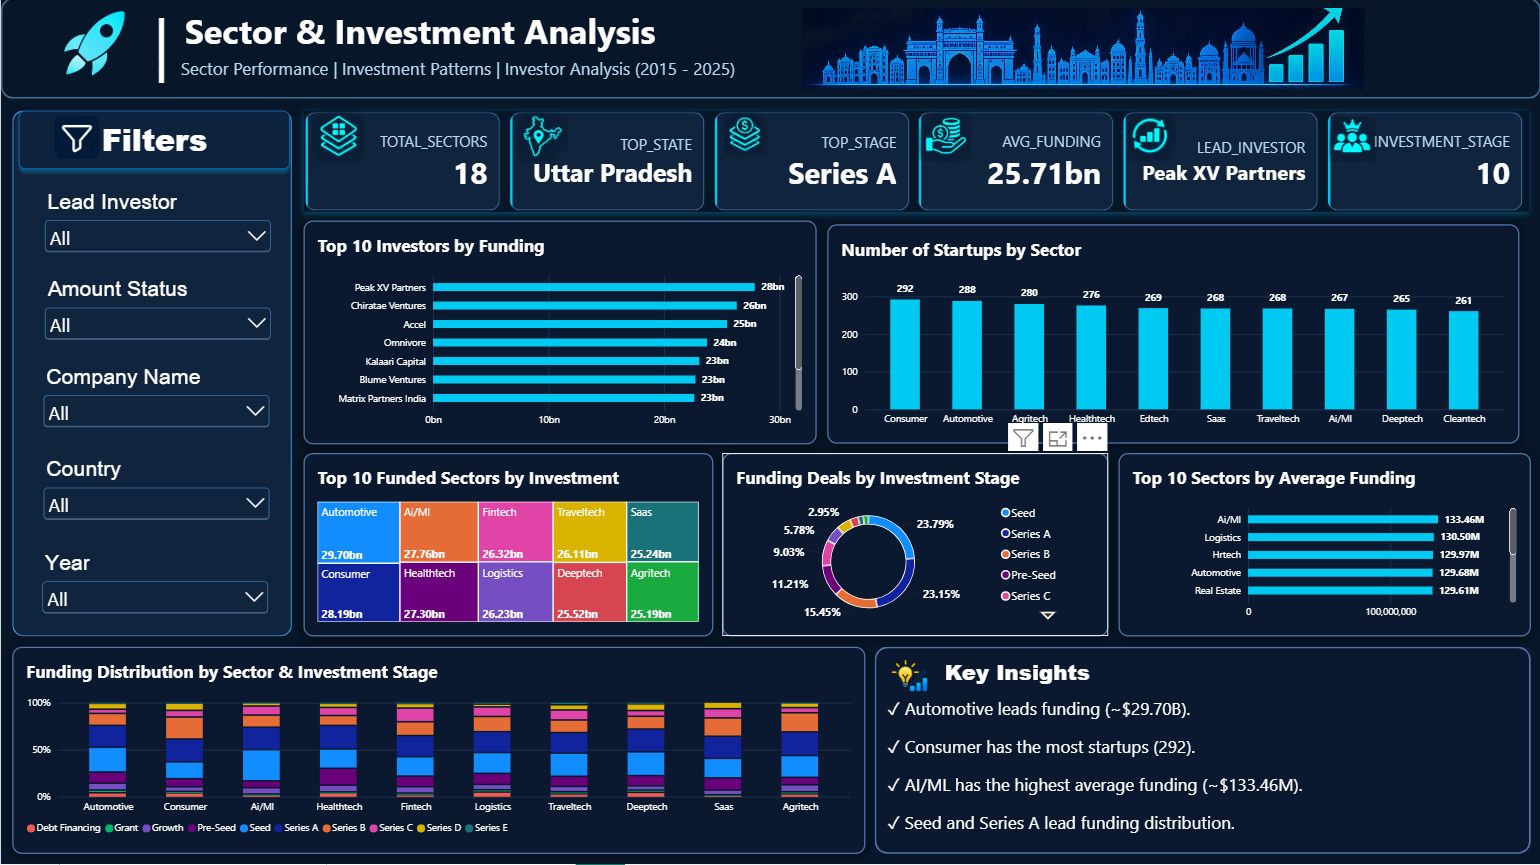

Layout of this report page (visuals, bound fields, positions):
{"tool":"powerbi","page":{"name":"Sector & Investment Analysis","canvas":[1920,1080],"ordinal":1},"visuals":[{"type":"textbox","box":[0,0,1920.4,148.3],"z":0},{"type":"shape","box":[0,0,1920.4,125.6],"z":1000},{"type":"image","box":[47.1,0,139.5,109.9],"z":2000},{"type":"textbox","box":[186.6,10.5,858.3,102.9],"z":3000},{"type":"textbox","box":[186.6,0,273.8,170.9],"z":4000},{"type":"textbox","box":[225,73.3,718.6,52.3],"z":5000},{"type":"image","box":[999.4,12.2,701.2,101.2],"z":6000},{"type":"cardVisual","fields":{"Data":["indian_startup_funding.TOTAL_SECTORS","indian_startup_funding.TOP_FUNDED_STATE","indian_startup_funding.HIGHEST_FUNDING_STAGE","indian_startup_funding.AVERAGE_FUNDING_PER_SECTOR","indian_startup_funding.TOP_LEAD_INVESTOR","indian_startup_funding.ACTIVE_INVESTMENT_STAGE"]},"box":[376.7,139.5,1527.9,127.3],"z":7000},{"type":"image","box":[380.2,137.8,80.2,68],"z":8000},{"type":"image","box":[633.1,141.3,85.5,62.8],"z":9000},{"type":"image","box":[1140.7,139.5,73.3,64.5],"z":10000},{"type":"image","box":[1393.6,143,82,61],"z":11000},{"type":"image","box":[1655.2,146.5,61,59.3],"z":12000},{"type":"image","box":[900,141.3,59.3,54.1],"z":13000},{"type":"shape","box":[14,139.5,348.8,655.8],"z":14000},{"type":"shape","box":[14,132.6,354.1,89],"z":15000},{"type":"image","box":[47.1,120.3,95.9,106.4],"z":16000},{"type":"textbox","box":[47.1,150,289.5,76.7],"z":17000},{"type":"slicer","fields":{"Values":["indian_startup_funding.lead_investor"]},"box":[50.6,233.7,291.3,89],"z":18000},{"type":"slicer","fields":{"Values":["indian_startup_funding.amount_status"]},"box":[50.6,343.6,291.3,89],"z":19000},{"type":"slicer","fields":{"Values":["indian_startup_funding.company_name_cleaned"]},"box":[48.8,451.7,291.3,89],"z":20000},{"type":"slicer","fields":{"Values":["indian_startup_funding.country"]},"box":[48.8,566.9,291.3,89],"z":21000},{"type":"slicer","fields":{"Values":["indian_startup_funding.year"]},"box":[47.1,683.7,291.3,89],"z":22000},{"type":"clusteredBarChart","title":"Top 10 Investors by Funding","fields":{"Category":["indian_startup_funding.lead_investor"],"Y":["indian_startup_funding.INVESTOR_FUNDING_EXCL_UNKNOWN"]},"box":[376.7,277.3,640.1,279.1],"z":23000},{"type":"clusteredColumnChart","title":"Number of Startups by Sector","fields":{"Category":["indian_startup_funding.sector"],"Y":["CountNonNull(indian_startup_funding.company_name_cleaned)"]},"box":[1030.8,282.6,863.4,273.8],"z":24000},{"type":"donutChart","title":"Funding Deals by Investment Stage","fields":{"Category":["indian_startup_funding.stage"],"Y":["CountNonNull(indian_startup_funding.ï»¿round_id)"]},"box":[900,566.9,481.4,228.5],"z":25000},{"type":"treemap","title":"Top 10 Funded Sectors by Investment","fields":{"Group":["indian_startup_funding.sector"],"Values":["Sum(indian_startup_funding.amount_usd)"]},"box":[376.7,566.9,511,228.5],"z":26000},{"type":"clusteredBarChart","title":"Top 10 Sectors by Average Funding","fields":{"Category":["indian_startup_funding.sector"],"Y":["Avg(indian_startup_funding.amount_usd)"]},"box":[1393.6,566.9,514.5,228.5],"z":27000},{"type":"hundredPercentStackedColumnChart","title":"Funding Distribution by Sector & Investment Stage","fields":{"Category":["indian_startup_funding.sector"],"Series":["indian_startup_funding.stage"],"Y":["Sum(indian_startup_funding.amount_usd)"]},"box":[14,809.3,1064,258.1],"z":28000},{"type":"shape","box":[1090.1,809.3,818,258.1],"z":29000},{"type":"textbox","box":[1177.3,821.5,709.9,232],"z":30000},{"type":"image","box":[1090.1,821.5,89,50.6],"z":31000},{"type":"textbox","box":[1105.8,872.1,788.4,207.6],"z":32000}]}

Visuals, with their boxes in screenshot pixels (x1, y1, x2, y2), scaled from the page's 1920x1080 canvas onto the 1540x865 screenshot:
textbox: [0,0,1539,119]
shape: [0,0,1539,101]
image: [38,0,150,88]
textbox: [150,8,838,91]
textbox: [150,0,369,137]
textbox: [180,59,757,101]
image: [802,10,1364,91]
cardVisual - indian_startup_funding.TOTAL_SECTORS x indian_startup_funding.TOP_FUNDED_STATE: [302,112,1528,214]
image: [305,110,369,165]
image: [508,113,576,163]
image: [915,112,974,163]
image: [1118,115,1184,163]
image: [1328,117,1377,165]
image: [722,113,769,157]
shape: [11,112,291,637]
shape: [11,106,295,177]
image: [38,96,115,182]
textbox: [38,120,270,182]
slicer - indian_startup_funding.lead_investor: [41,187,274,258]
slicer - indian_startup_funding.amount_status: [41,275,274,346]
slicer - indian_startup_funding.company_name_cleaned: [39,362,273,433]
slicer - indian_startup_funding.country: [39,454,273,525]
slicer - indian_startup_funding.year: [38,548,271,619]
"Top 10 Investors by Funding" clusteredBarChart: [302,222,816,446]
"Number of Startups by Sector" clusteredColumnChart: [827,226,1519,446]
"Funding Deals by Investment Stage" donutChart: [722,454,1108,637]
"Top 10 Funded Sectors by Investment" treemap: [302,454,712,637]
"Top 10 Sectors by Average Funding" clusteredBarChart: [1118,454,1530,637]
"Funding Distribution by Sector & Investment Stage" hundredPercentStackedColumnChart: [11,648,865,855]
shape: [874,648,1530,855]
textbox: [944,658,1514,844]
image: [874,658,946,698]
textbox: [887,698,1519,864]
